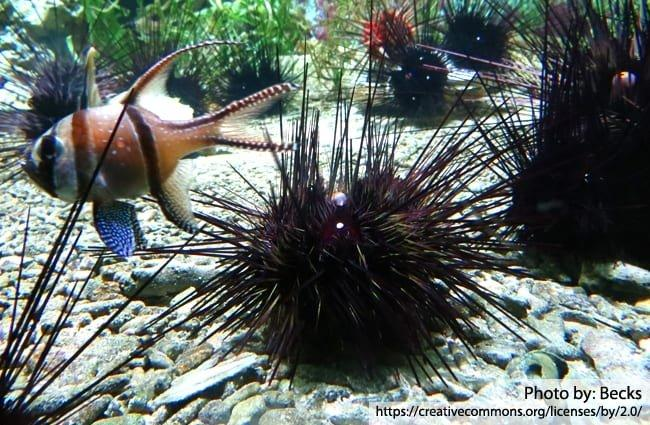urchin: (182, 60, 529, 392), (476, 13, 645, 291), (2, 184, 170, 418), (3, 9, 132, 136), (98, 6, 216, 114), (358, 9, 460, 108), (209, 24, 297, 113), (427, 2, 531, 76)
